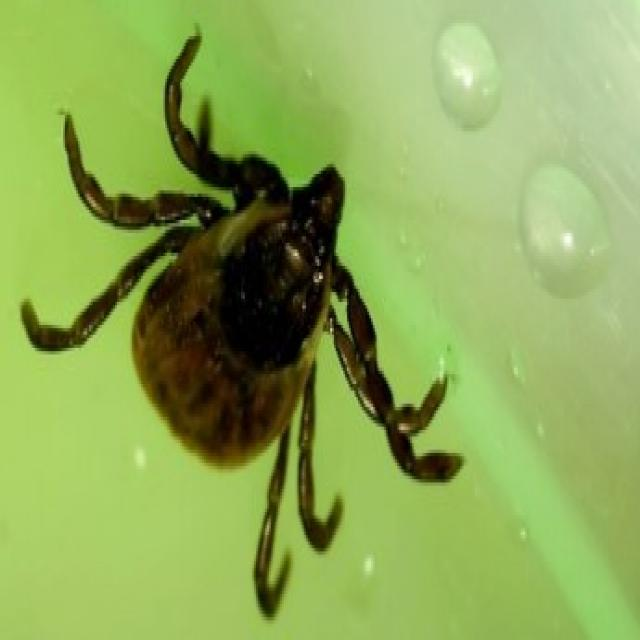Rhipicephalus Sanguineus-F: (20, 30, 467, 620)
